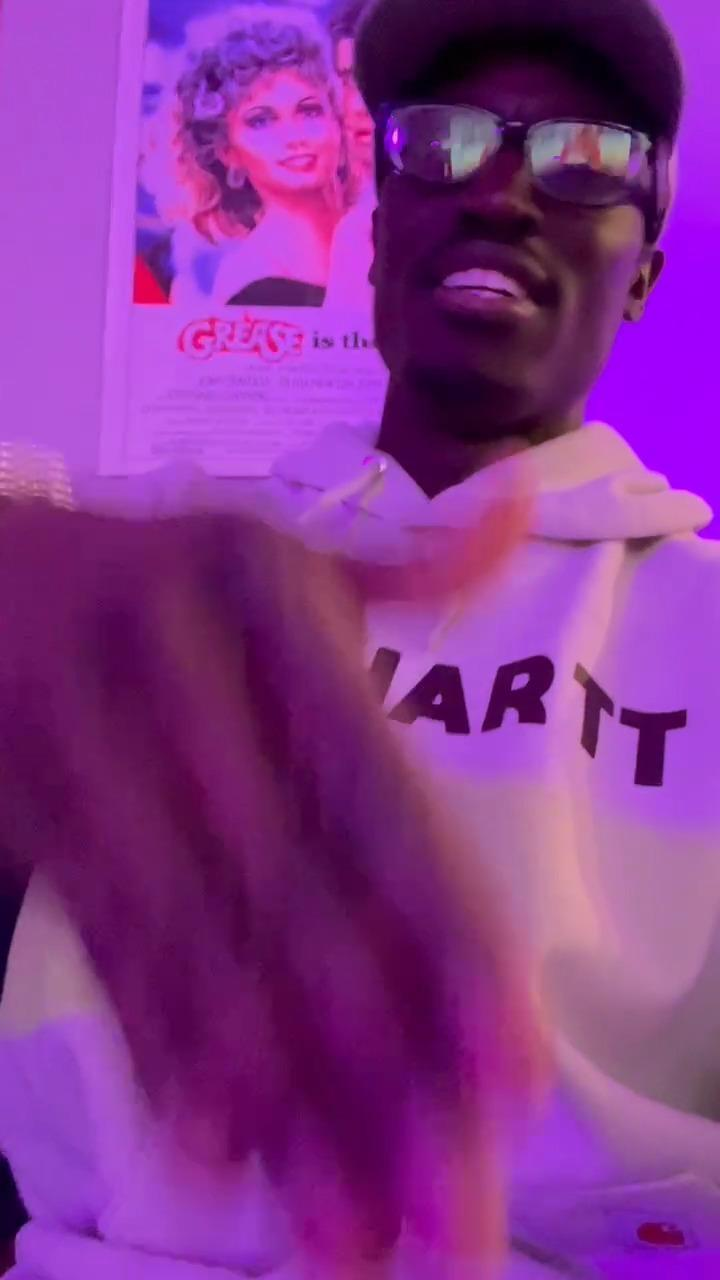Paper: (0, 492, 563, 1280)
